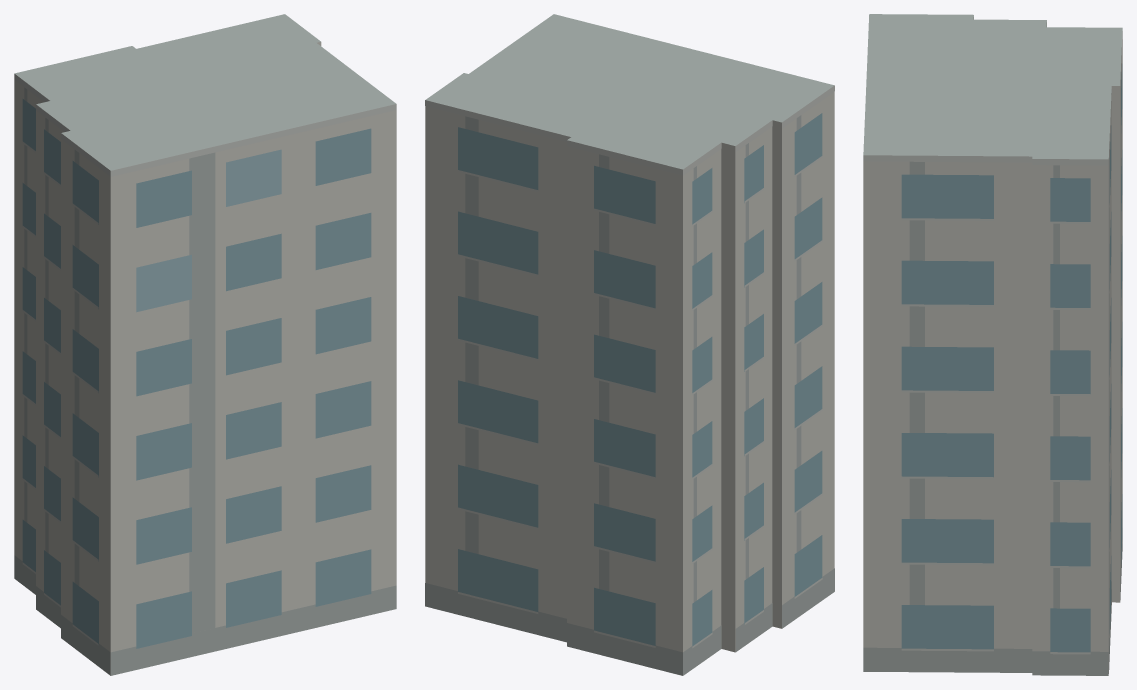
File: survey-upis-33022470.glb
The picture shows the model from 3 angles, left to right: view 1: azimuth 30°, elevation 25°; view 2: azimuth 150°, elevation 25°; view 3: azimuth 270°, elevation 25°; orthographic projection. The views are drawn at different scales.
Parts seen in each view (by area): view 1: survey-upis-33022470.tmp; view 2: survey-upis-33022470.tmp; view 3: survey-upis-33022470.tmp.
Part boxes in pixels (bbox=[...]): survey-upis-33022470.tmp: bbox=[14, 14, 396, 675]; survey-upis-33022470.tmp: bbox=[425, 14, 834, 675]; survey-upis-33022470.tmp: bbox=[863, 14, 1122, 675].
Size of the model in its own units: 12.27 by 20.3 by 9.25.
